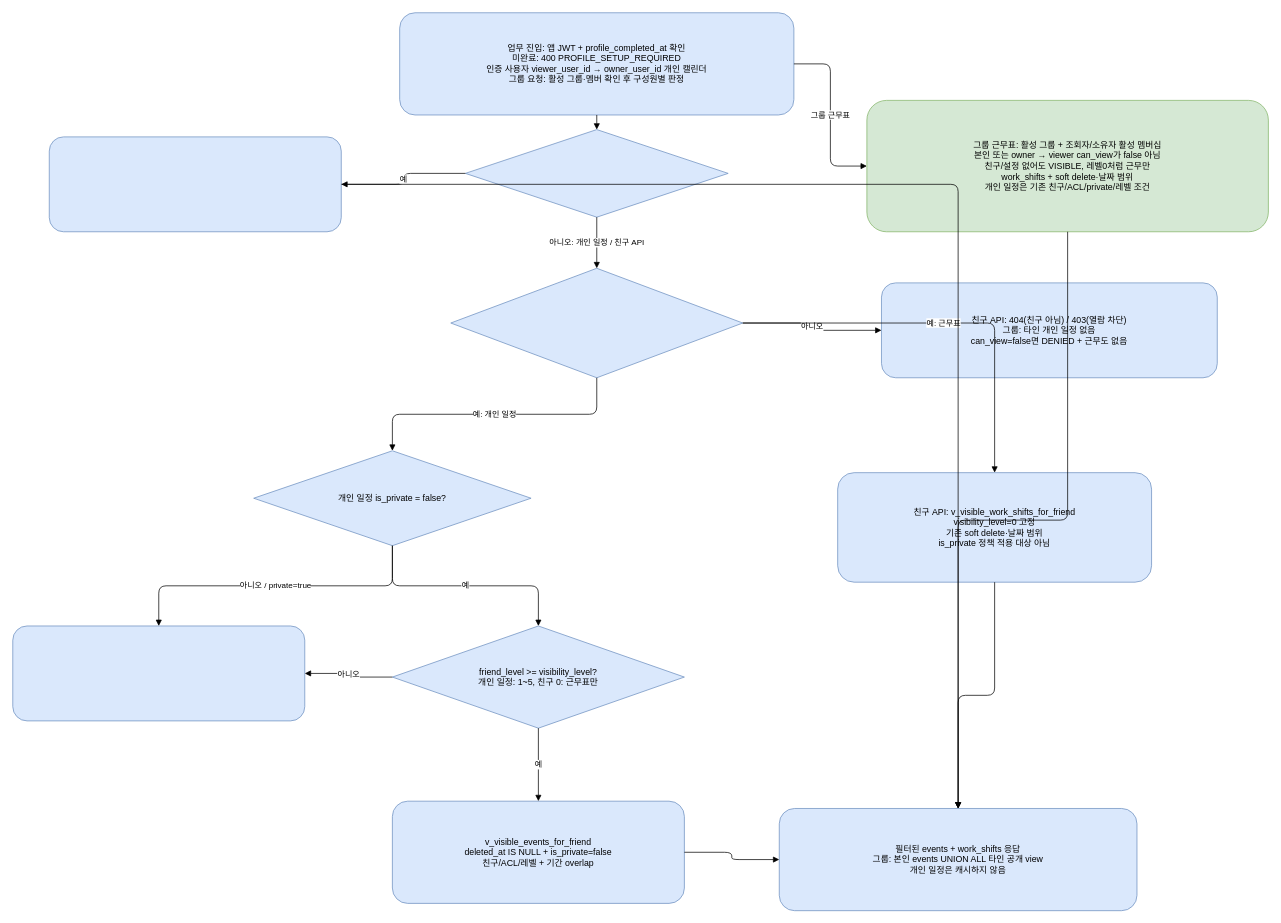
Some shapes in this 1281 by 923 pixel diagram are drawn without their labels. The shapes that lost their labels are listed below. From the top down, each one's centre as x and y in pixels, then its label:
At [195,184]: "본인 events + work_shifts is_private=true 포함 deleted_at IS NULL + 기존 기간/날짜 조건".
At [596,173]: "owner_user_id == viewer_user_id?".
At [596,323]: "친구 관계 EXISTS owner → viewer can_view=true?".
At [158,673]: "해당 일정 전체 행 제외 event_id/title/memo/place/start/end 없음 숨겨진 개수·날짜 마커도 없음".
